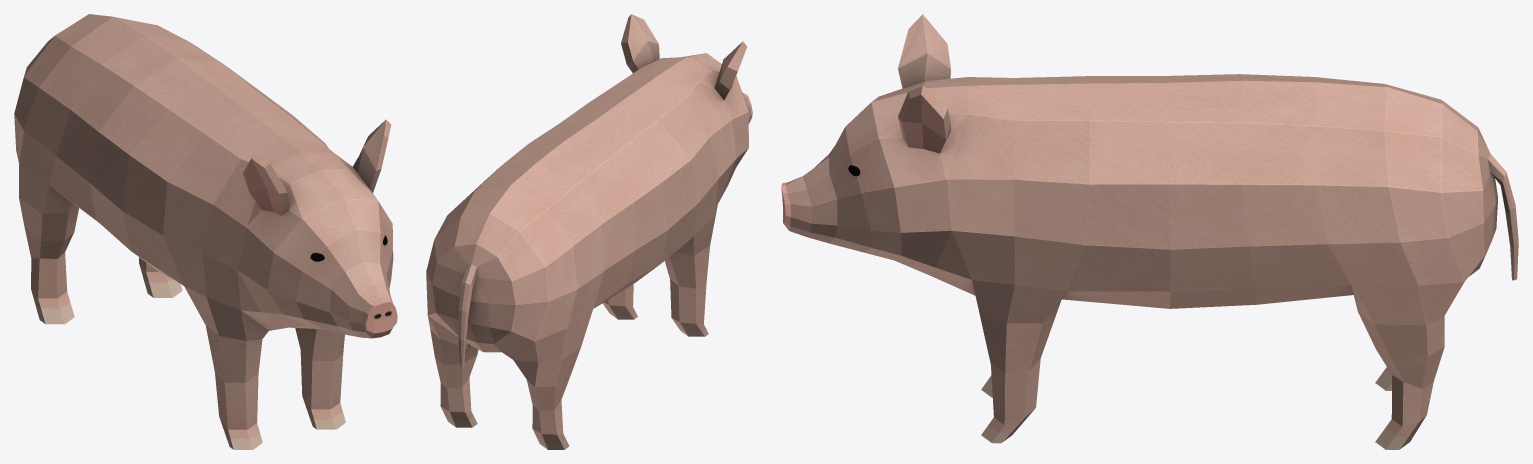
The picture shows the model from 3 angles, left to right: view 1: azimuth 30°, elevation 25°; view 2: azimuth 150°, elevation 25°; view 3: azimuth 270°, elevation 25°; orthographic projection. The views are drawn at different scales.
Visible parts, largest first — view 1: Pig_Mesh; view 2: Pig_Mesh; view 3: Pig_Mesh.
Part boxes in pixels (box(x1,y1,x2,y2)): Pig_Mesh: box(14, 14, 397, 449); Pig_Mesh: box(426, 14, 752, 449); Pig_Mesh: box(781, 14, 1518, 449).
Bounding box in the file's own units: 2.33 × 4.1 × 7.56.
Materials: 1 (1 with a texture image).
